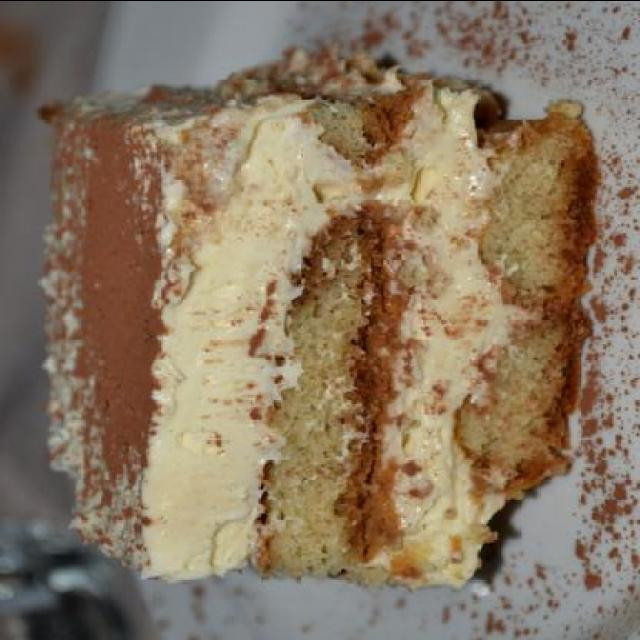Tiramisu: (39, 71, 575, 578)
